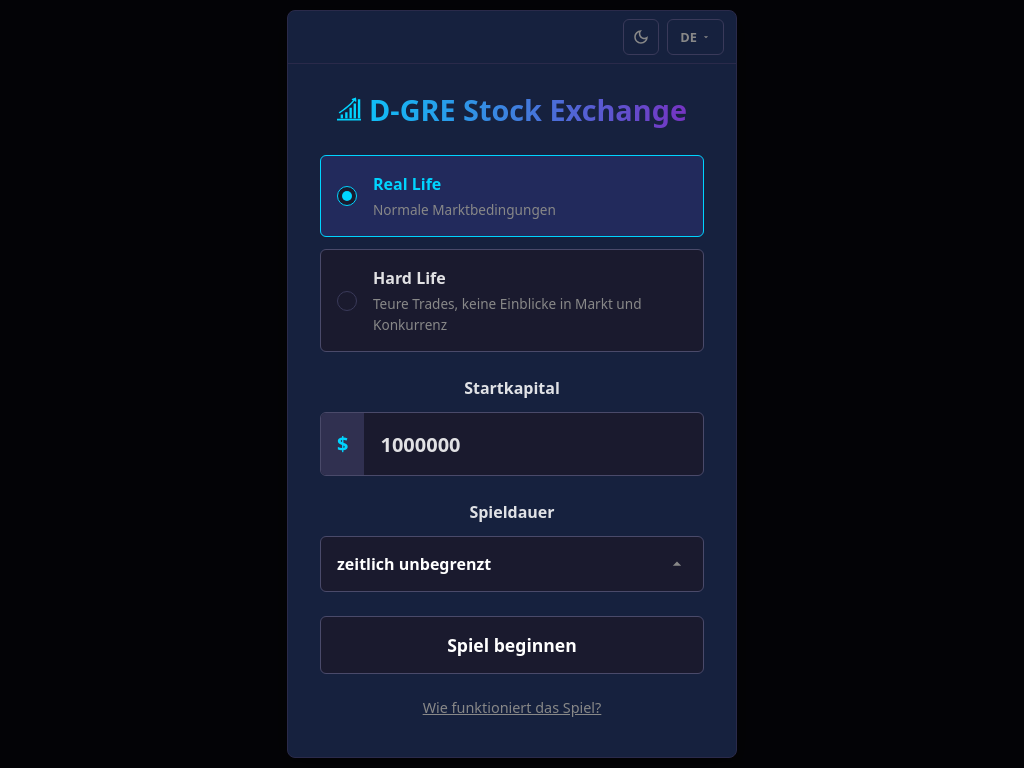
Scenario: GameStart › language dropdown › should show language options when clicking the dropdown
Click the button with aria-label "Sprache". click: {"x": 696, "y": 37}
box: x1=667 y1=19 x2=724 y2=55
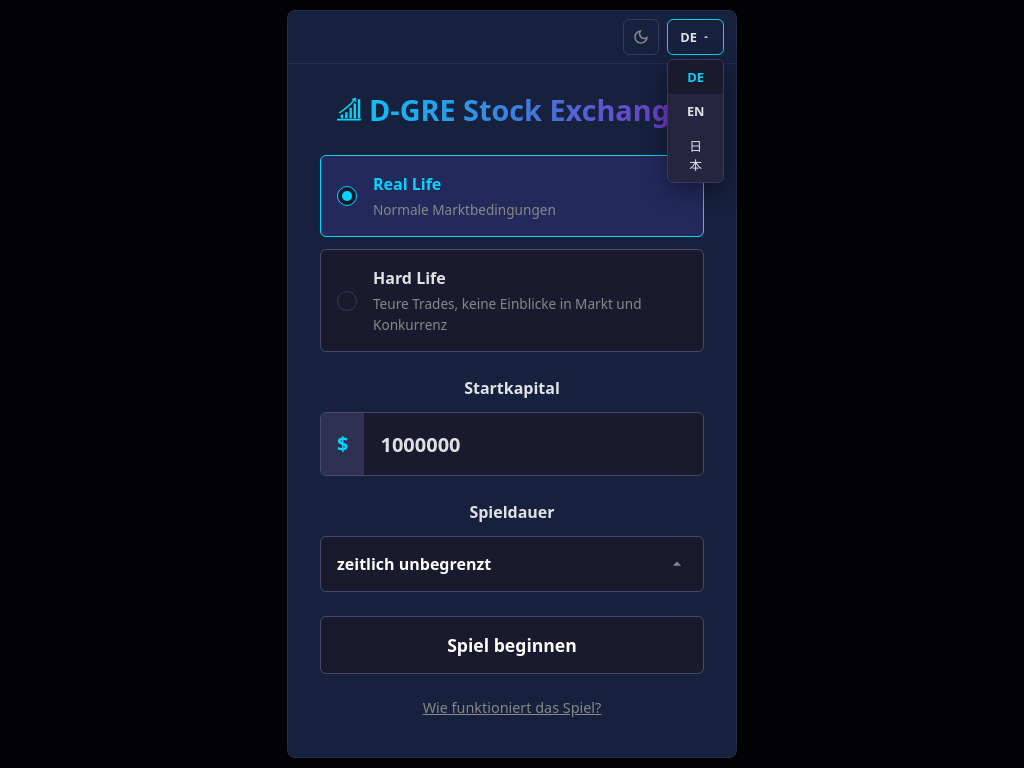
Expected: the text "DE" is shown 2 times, x1=680 y1=28 x2=697 y2=46; x1=668 y1=60 x2=723 y2=94
Result: the button "EN" is shown at x1=668 y1=94 x2=723 y2=128
Result: the button "日本" is shown at x1=668 y1=128 x2=723 y2=182
